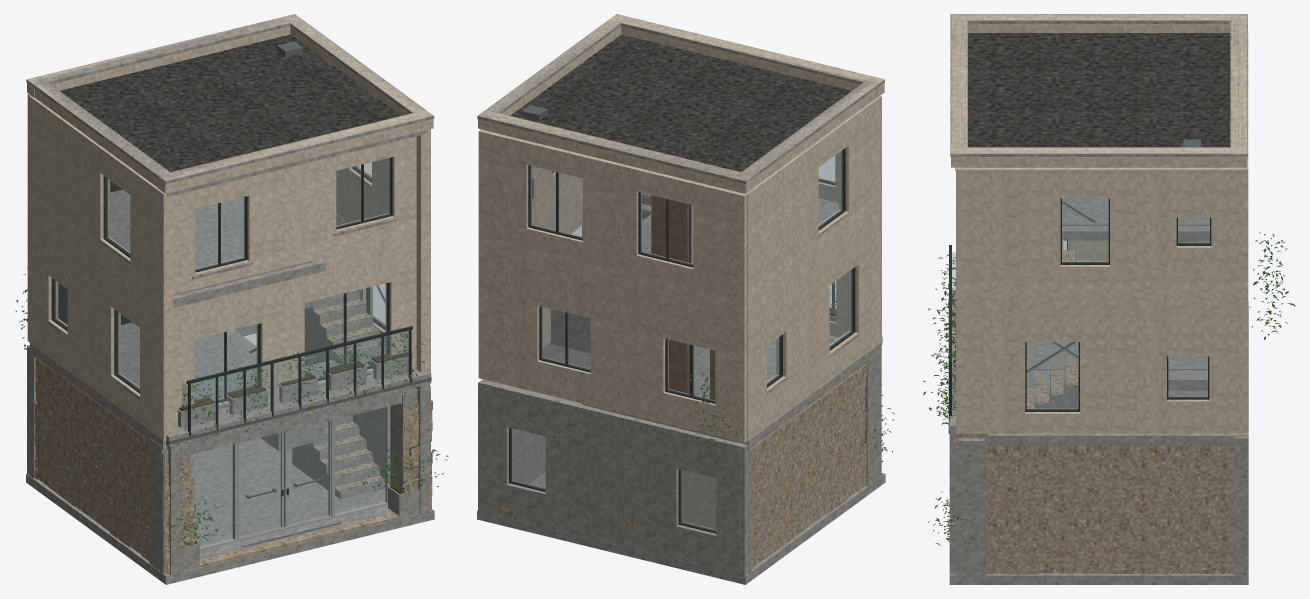
The model's file is HIL03_lod2.glb.
3 renders of one model, left to right at view 1: azimuth 30°, elevation 25°; view 2: azimuth 150°, elevation 25°; view 3: azimuth 270°, elevation 25°, orthographic. The views are drawn at different scales.
Parts seen in each view (by area): view 1: Facade, Roof, Interior, Structure, Details, Doors_Moving__LeftGlass_017, Doors_Moving__RightGlass_022, Doors_Moving__RightFrame_023, Doors_Moving__LeftFrame_018; view 2: Facade, Roof, Structure, Interior, Details; view 3: Facade, Roof, Structure, Interior, Details.
Boxes of the visible parts, x1,y1,x2,y2 form: Facade: [27, 94, 432, 574]; Roof: [26, 14, 434, 196]; Interior: [31, 180, 393, 559]; Structure: [26, 198, 434, 584]; Details: [14, 268, 448, 572]; Doors_Moving__LeftGlass_017: [239, 433, 280, 536]; Doors_Moving__RightGlass_022: [287, 421, 328, 525]; Doors_Moving__RightFrame_023: [284, 420, 331, 527]; Doors_Moving__LeftFrame_018: [238, 432, 283, 538]; Facade: [478, 96, 883, 575]; Roof: [477, 14, 884, 193]; Structure: [477, 214, 885, 584]; Interior: [530, 193, 868, 529]; Details: [532, 178, 894, 473]; Facade: [948, 31, 1248, 575]; Roof: [950, 14, 1247, 171]; Structure: [949, 226, 1248, 584]; Interior: [1026, 198, 1209, 408]; Details: [923, 232, 1295, 545].
Bounding box in the file's own units: 6.81 × 8.9 × 6.97.
17 materials, 17 textured.
